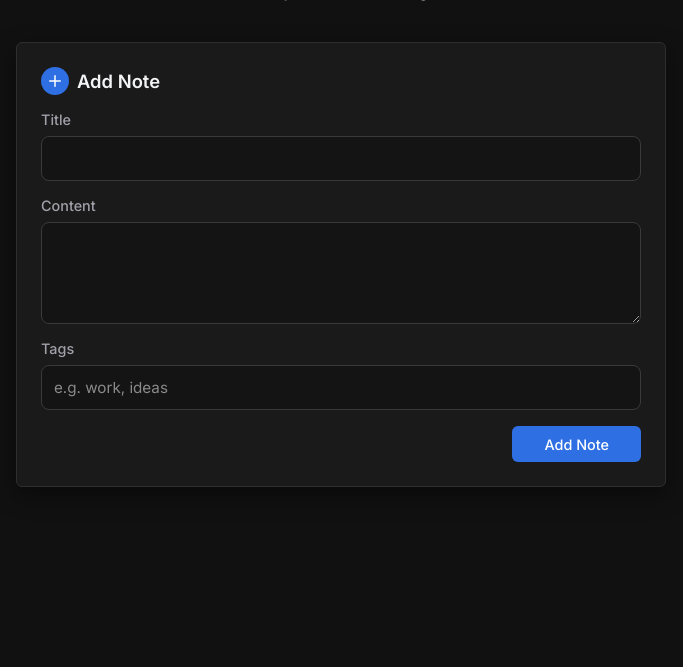
Test case: Edit note › edits a note
The width and height of the screenshot is (683, 667).
Type "test title" into the field labelled "Title" at (341, 158), box [41,136,641,181]
Type "test content" into the text box labelled "Content" at (341, 273), box [41,222,641,324]
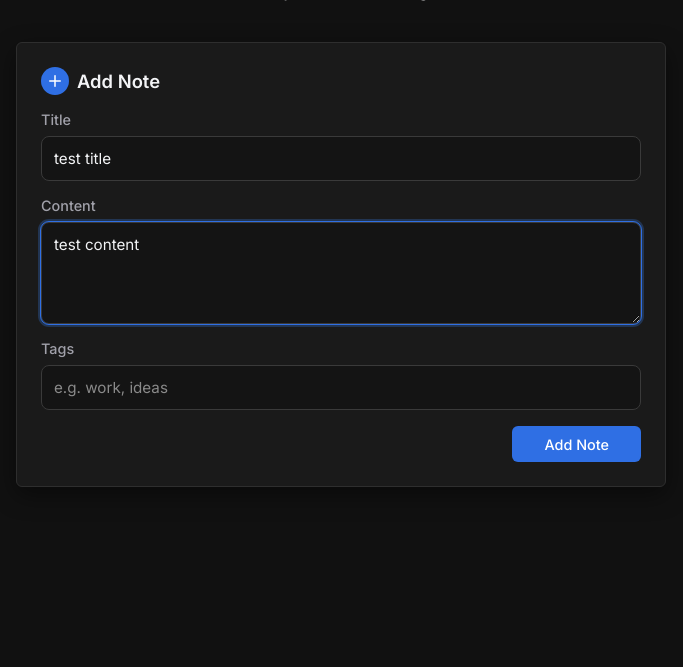
Type "test tag" into the field labelled "Tags" at (341, 388), box [41,365,641,410]
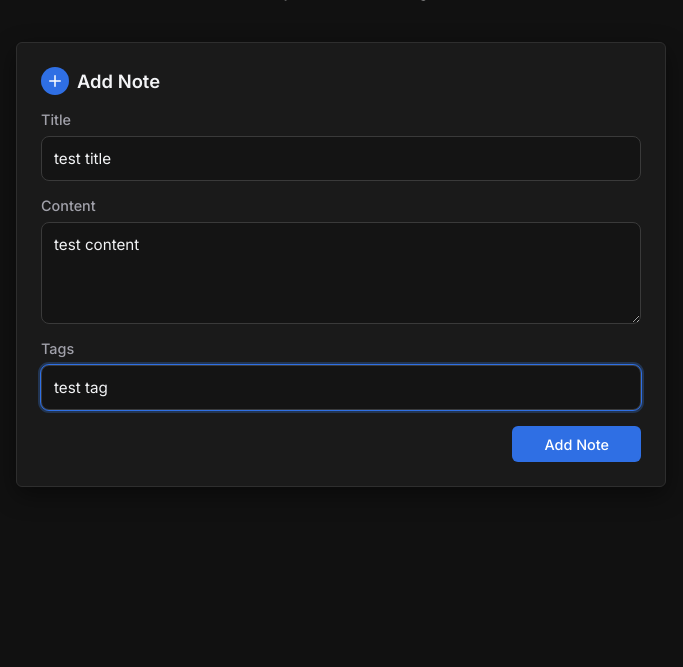
Click the button "Add Note" at (577, 444), box [512,426,641,462]
(page scrolled)
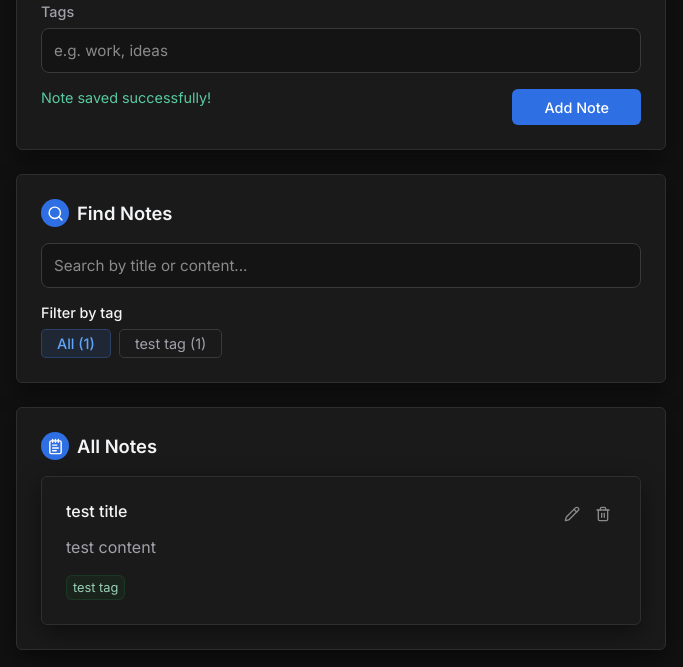
Expected: the text "test title" is shown, [66,501,127,521]
Click the button named "Edit test title" at (572, 514), box [559,501,585,527]
(page scrolled)
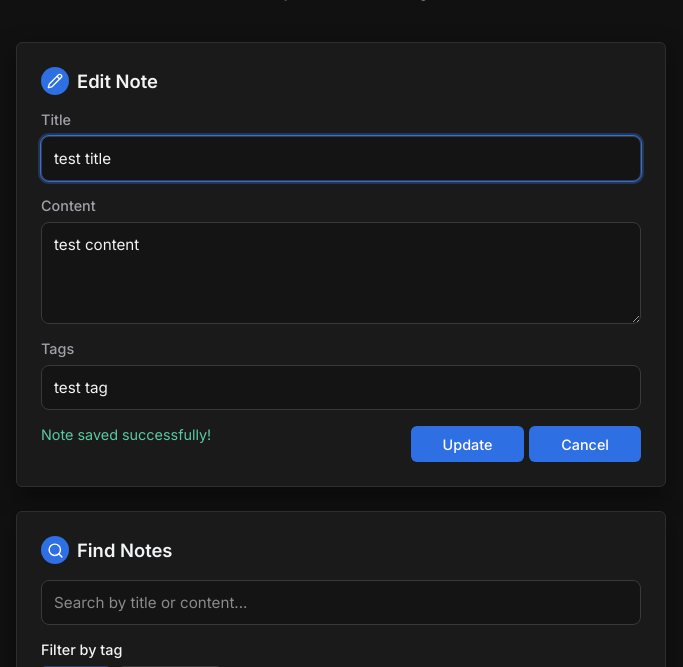
Replace the text in the field labelled "Title" with "New title" at (341, 158), box [41,136,641,181]
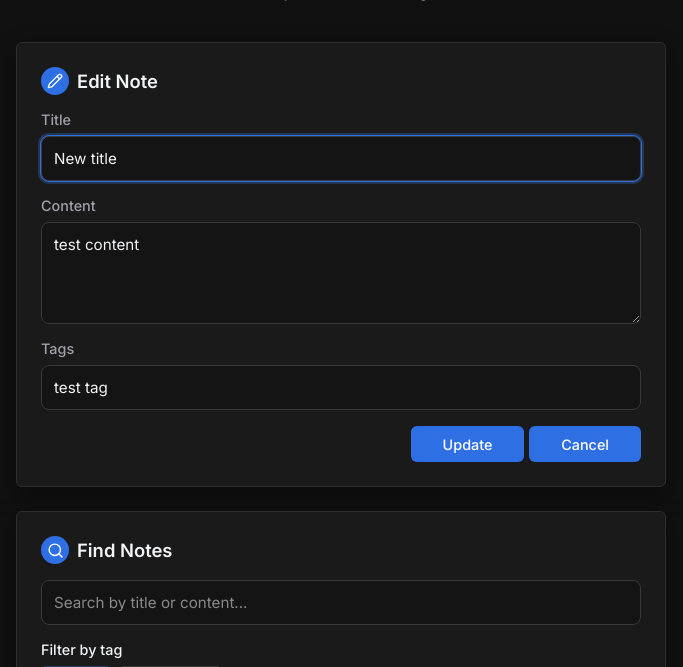
Click the button "Update" at (468, 444), box [411,426,524,462]
(page scrolled)
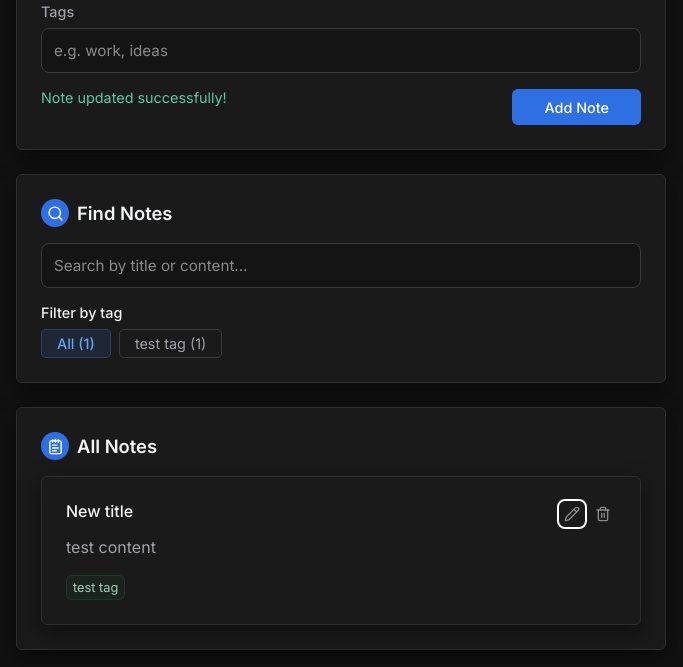
Expected: the heading "New title" is shown, [66,501,133,527]
Expected: the text "Note updated successfully!" is shown, [41,89,227,106]
